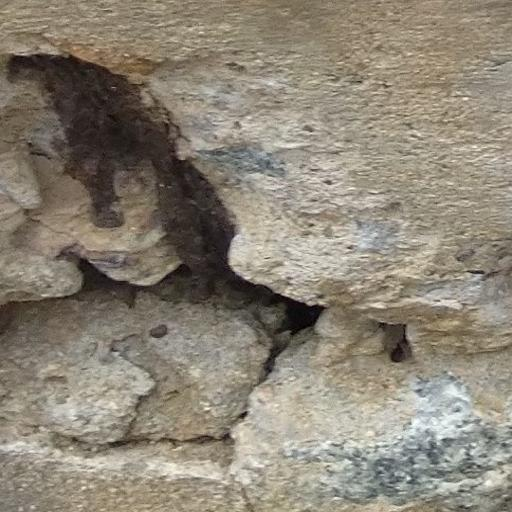spalling: (5, 41, 346, 487)
